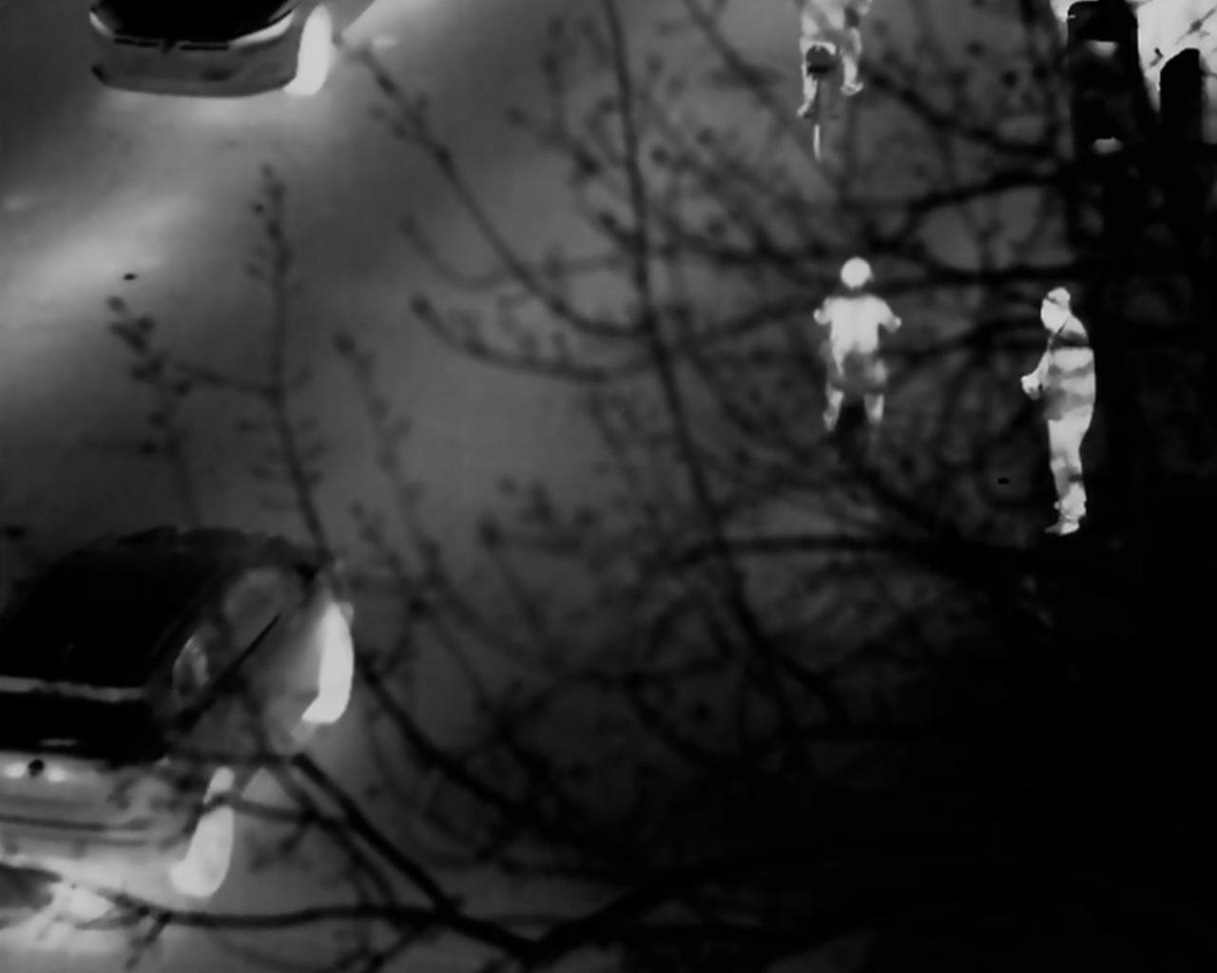person: (1023, 290, 1107, 541), (802, 250, 887, 433)
